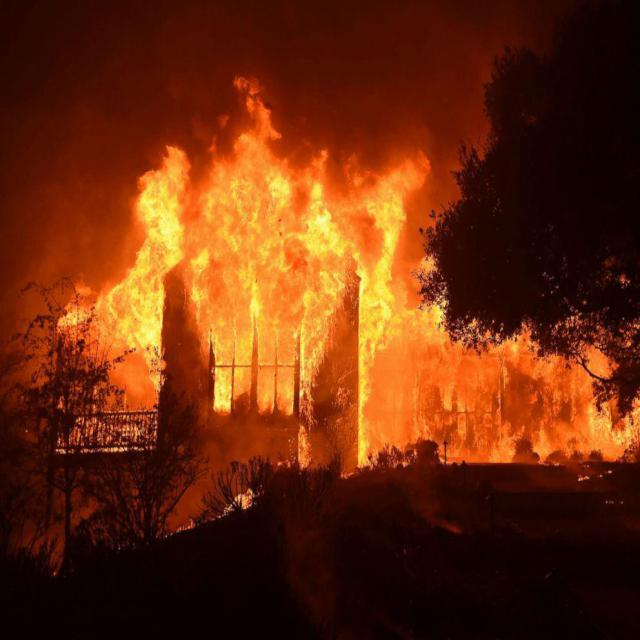Fire: (59, 93, 630, 498)
